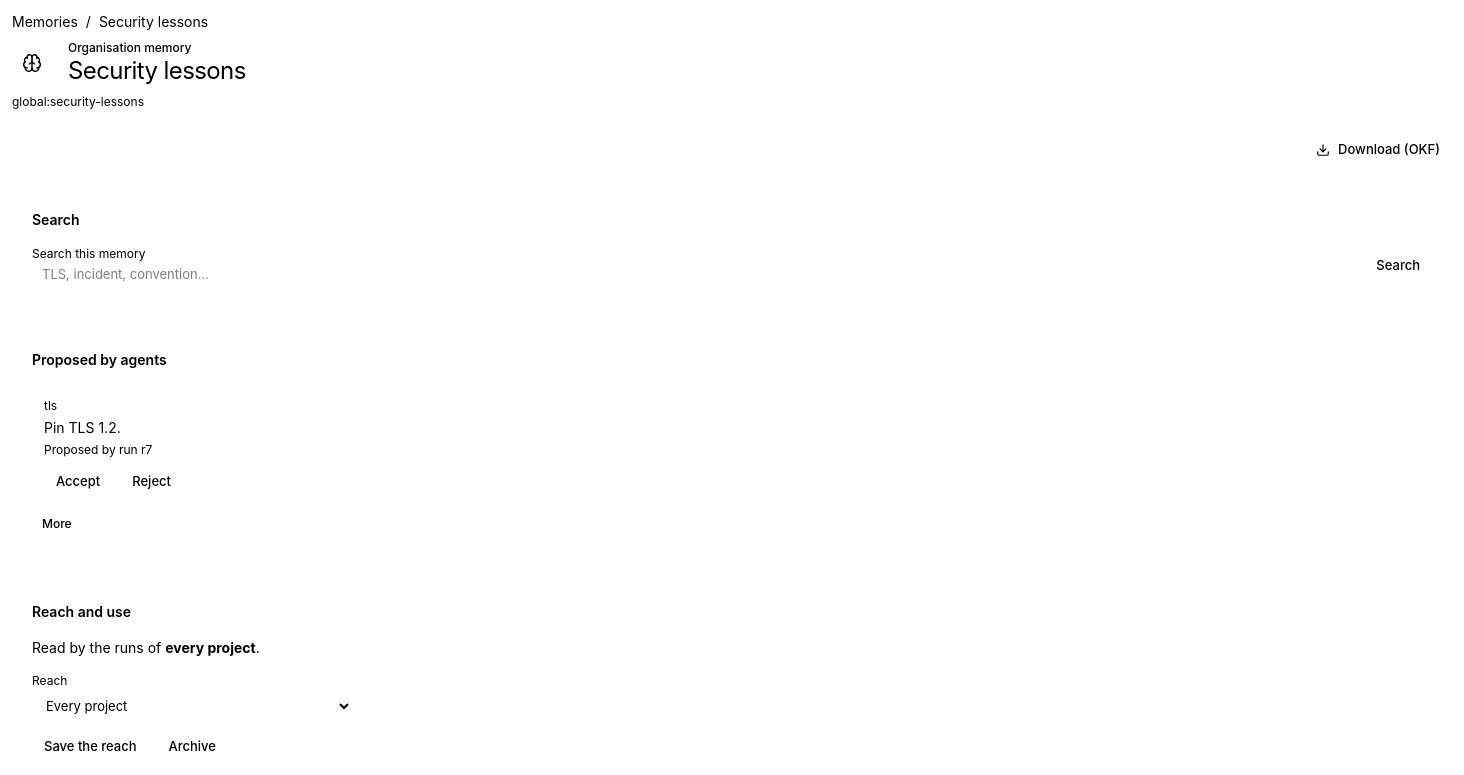
one global memory › reads the review queue a page at a time: More asks the server for the next one (ADR 0206)
Click the button "More" at x=57, y=524, box [32,510,82,538]
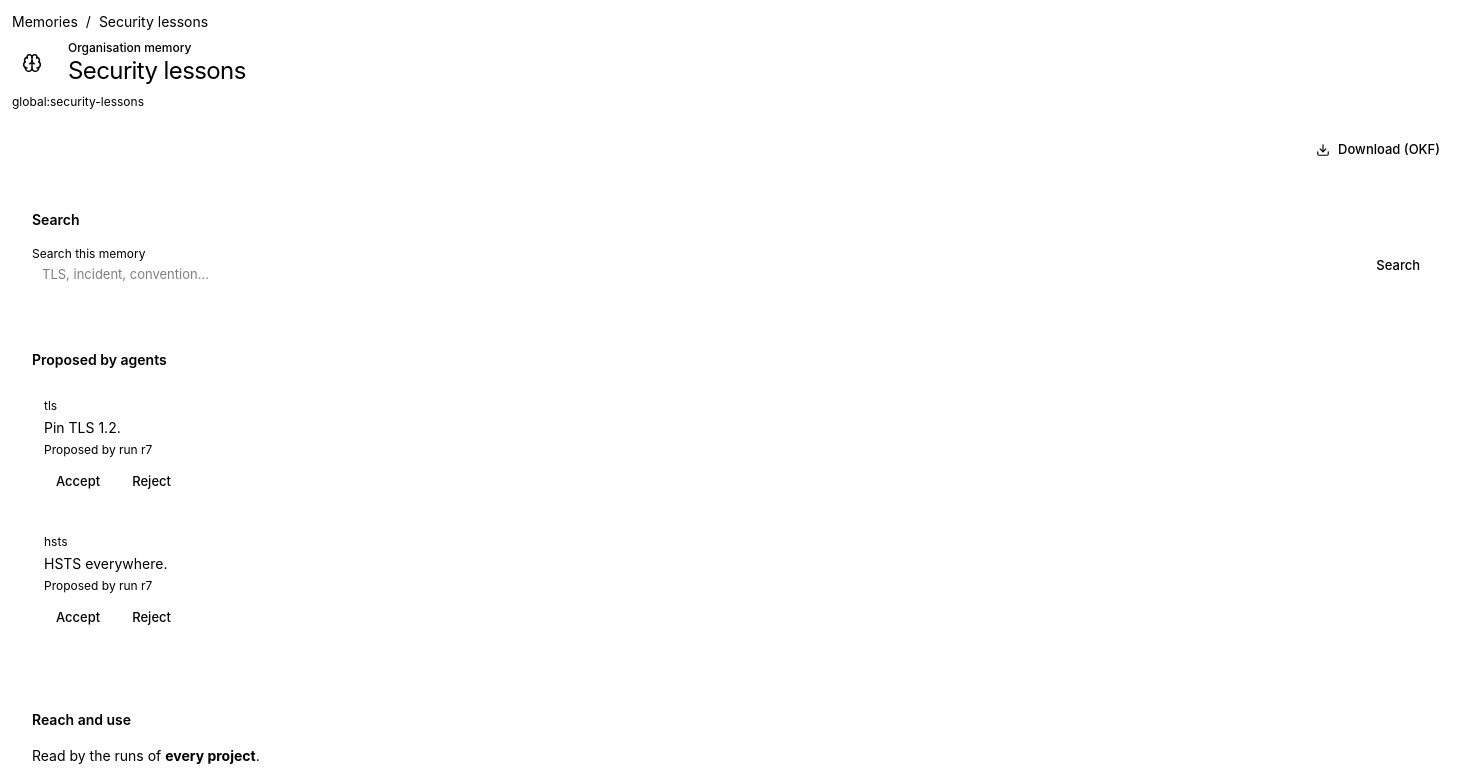
Result: the text "HSTS everywhere." is shown at [44,555,167,572]
Result: the button "More" is gone
